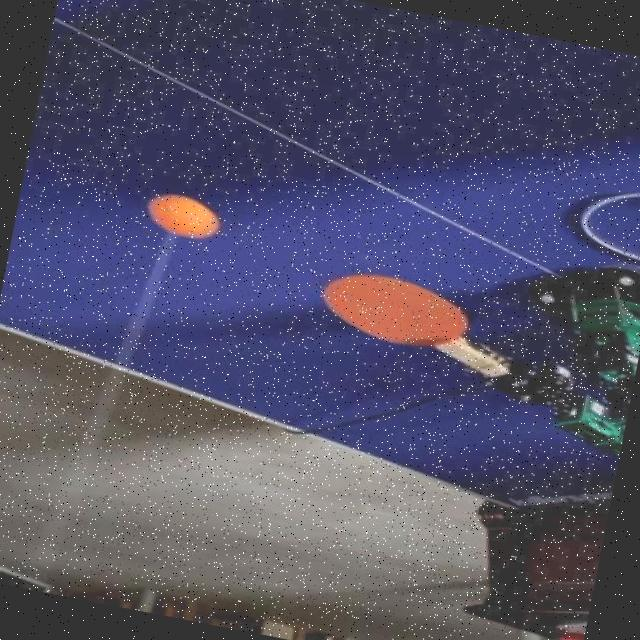ping-pong-ball: (142, 192, 224, 242)
